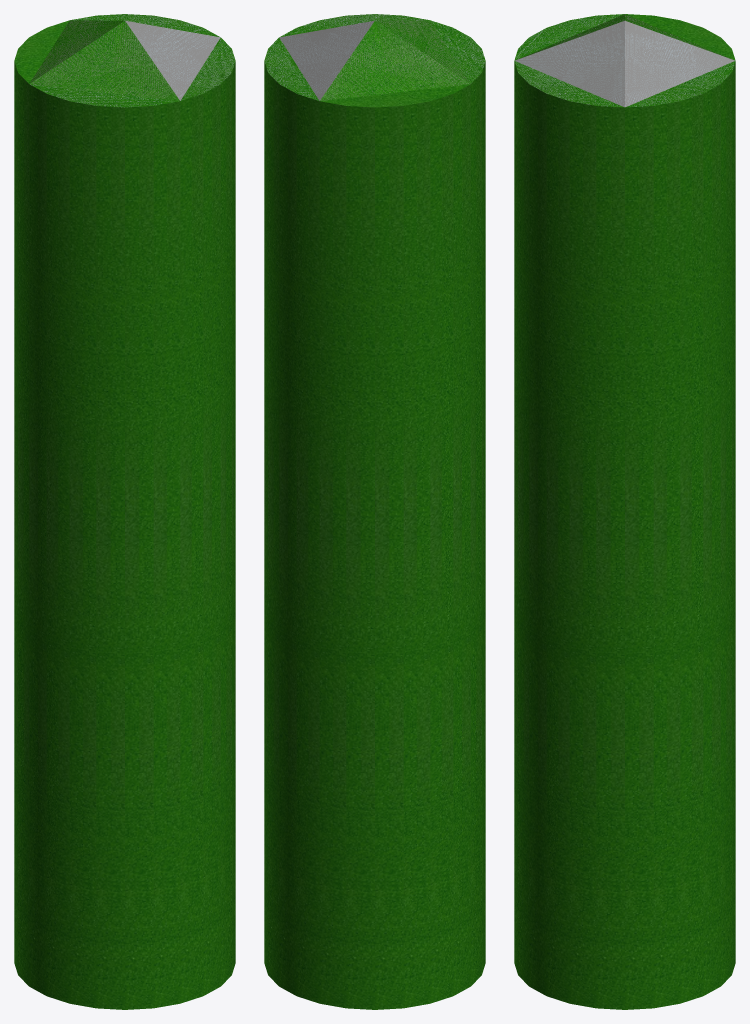
File: poteau_dae.dae
3 views of the same model, side by side, from view 1: azimuth 30°, elevation 25°; view 2: azimuth 150°, elevation 25°; view 3: azimuth 270°, elevation 25° (orthographic).
Visible parts, largest first — view 1: SketchUp (×4); view 2: SketchUp (×4); view 3: SketchUp (×4).
Boxes of the visible parts, x1,y1,x2,y2 form: SketchUp (×4): (14, 14, 235, 1009); SketchUp (×4): (264, 14, 485, 1009); SketchUp (×4): (514, 14, 735, 1009).
Bounding box in the file's own units: 3.94 × 3.94 × 18.5.
Materials: 3 (1 with a texture image).
